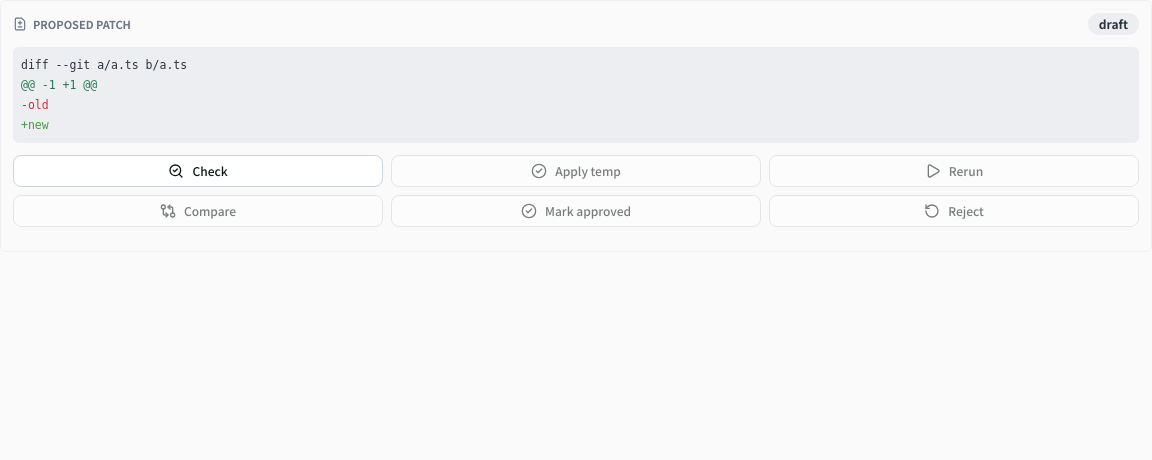
Test: RepairReviewPanel › blocks generated test approval when QMO summary is not ready
What coordinates should you click on to do the following:
click the button "Check"
I would click on:
 (198, 171)
Its box is [13, 155, 383, 187].
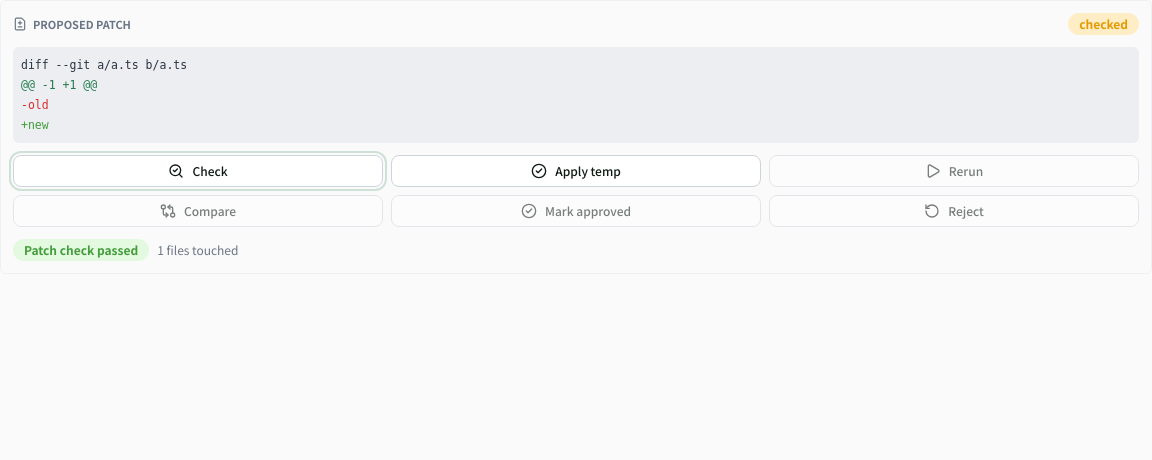
What coordinates should you click on to do the following:
click the button "Apply temp"
I would click on:
 (576, 171)
Its box is [391, 155, 761, 187].
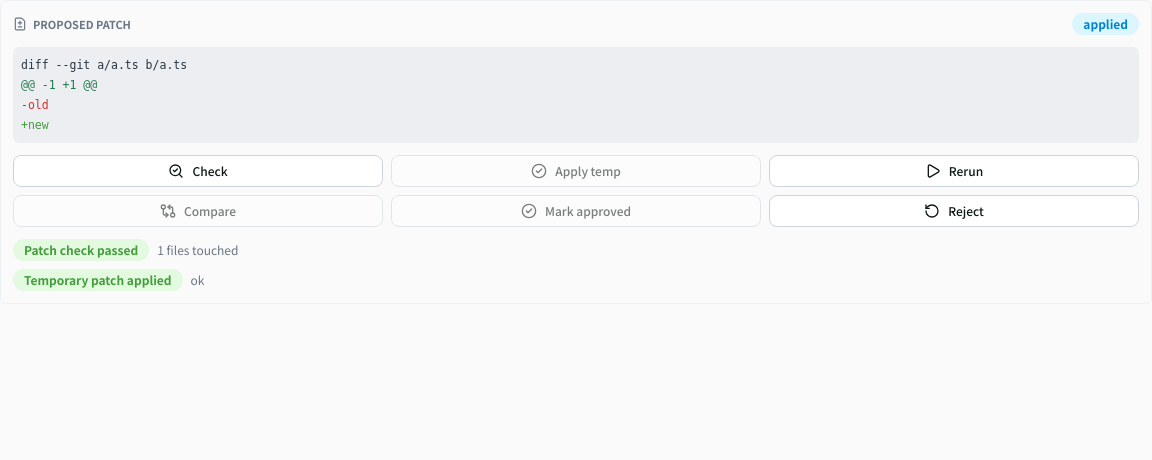
What coordinates should you click on to do the following:
click the button "Rerun"
I would click on:
 (954, 171)
Its box is [769, 155, 1139, 187].
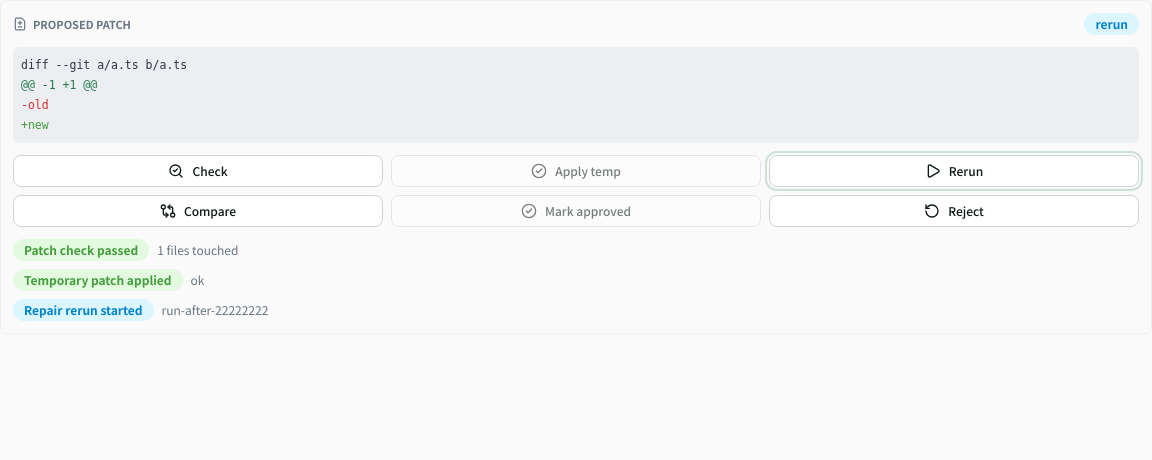
What coordinates should you click on to do the following:
click the button "Compare"
I would click on:
 (198, 211)
Its box is [13, 195, 383, 227].
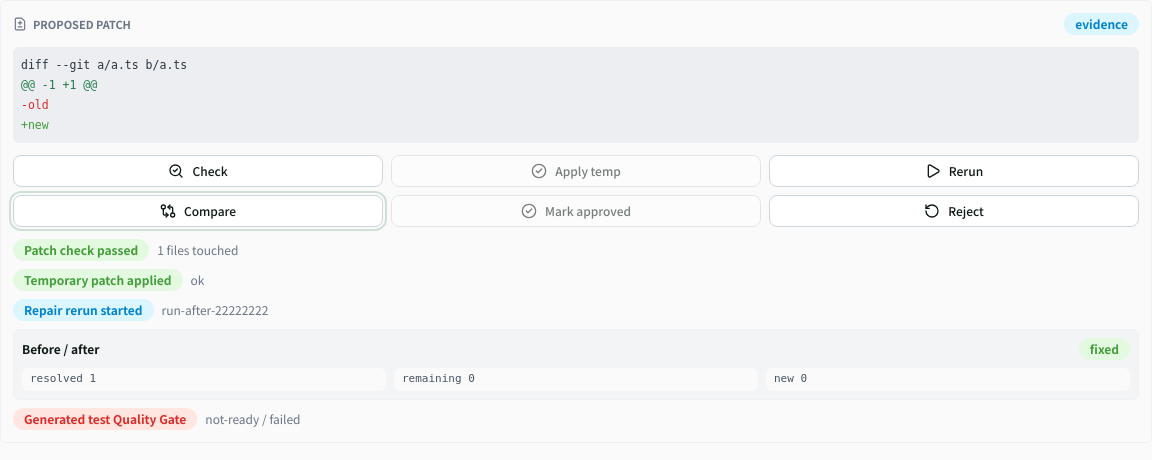
Expected: the button "Mark approved" is disabled, [391, 195, 761, 227]
Expected: the text "not-ready / failed" is shown, [205, 411, 300, 427]
